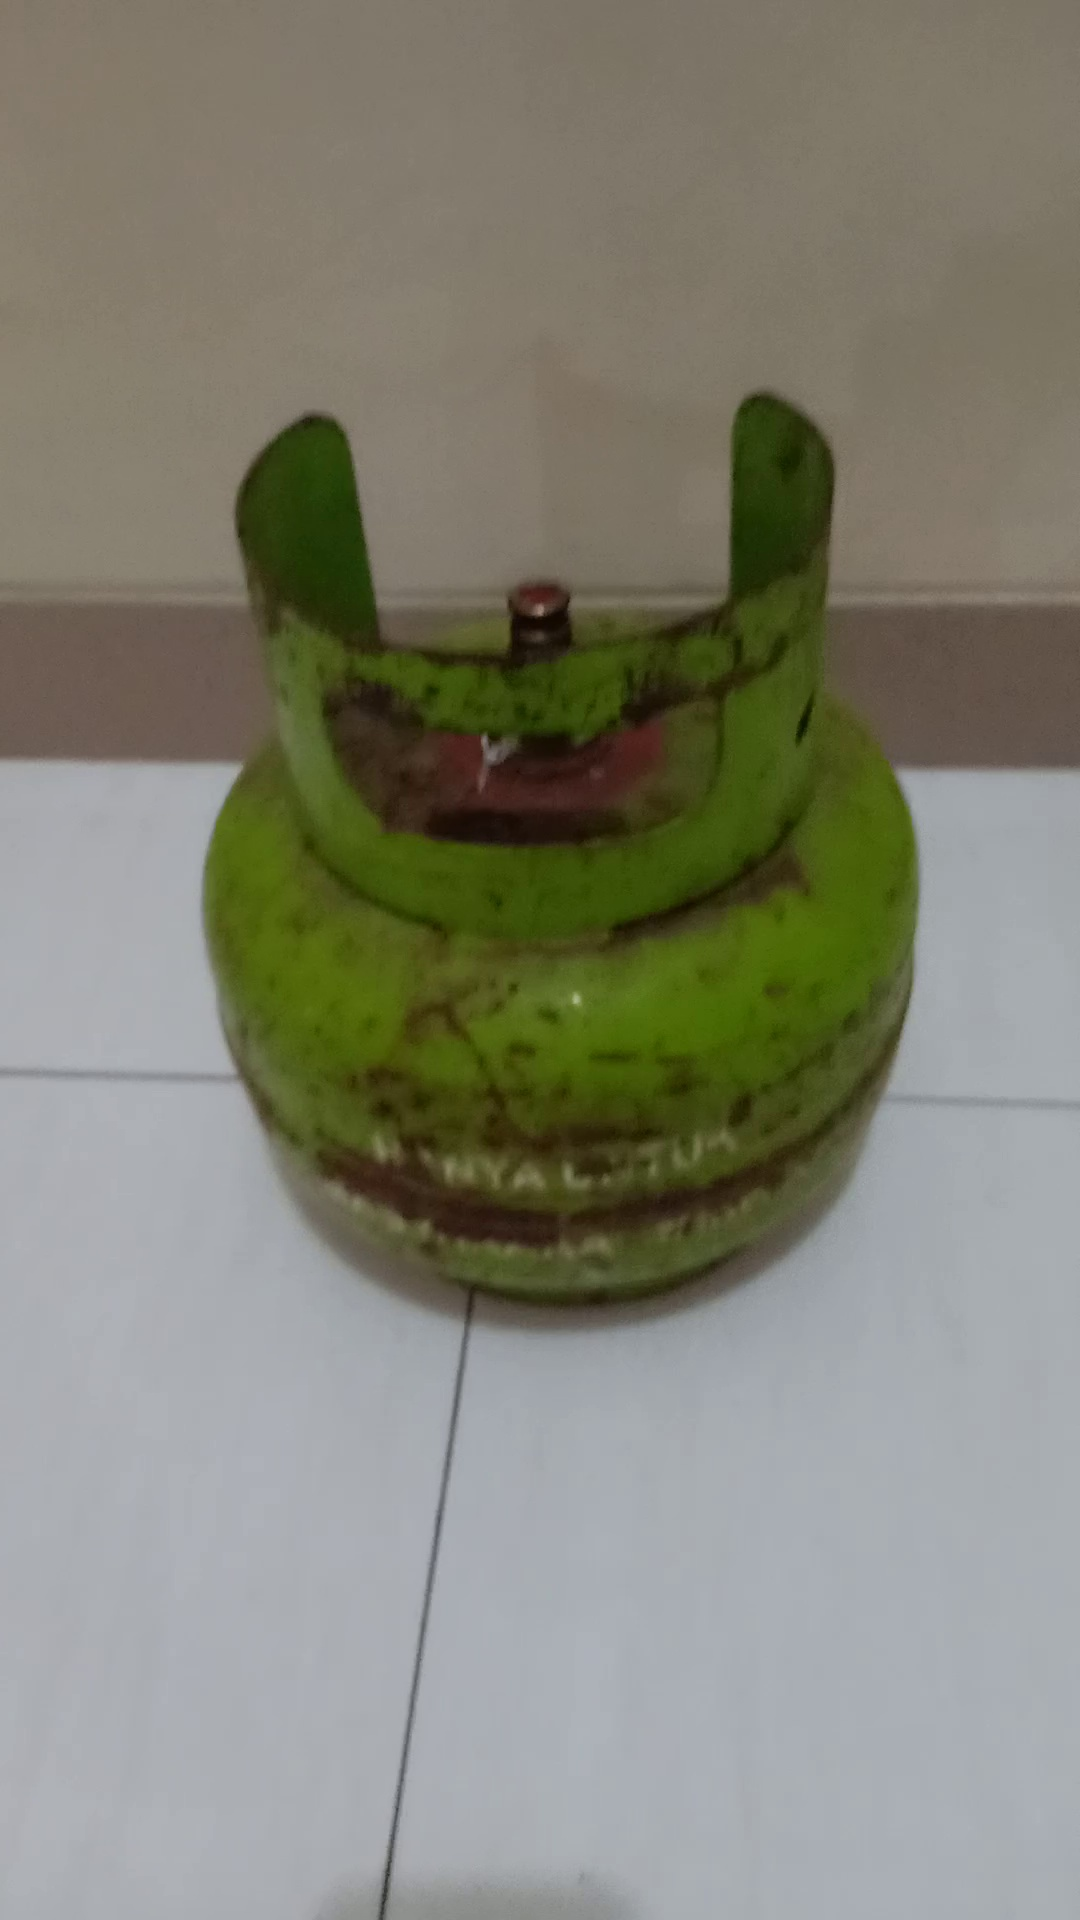gas_ijo: (204, 384, 923, 1317)
